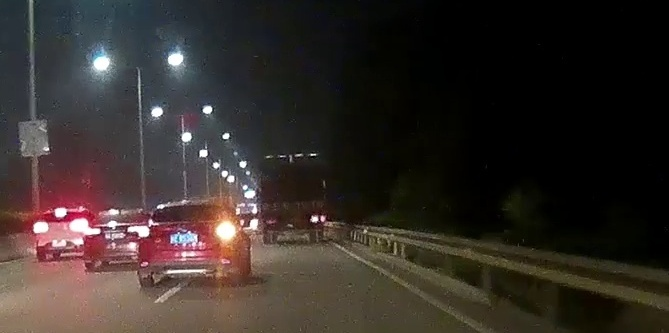L_light: (139, 226, 151, 239), (35, 223, 48, 231), (264, 218, 277, 224)
R_light: (217, 225, 235, 237), (71, 221, 87, 231), (310, 214, 325, 222)
T_light: (183, 205, 199, 208), (287, 158, 298, 162), (56, 211, 65, 215)
night-brake: (35, 207, 90, 260)
night-right: (138, 200, 236, 287), (256, 153, 327, 243)
